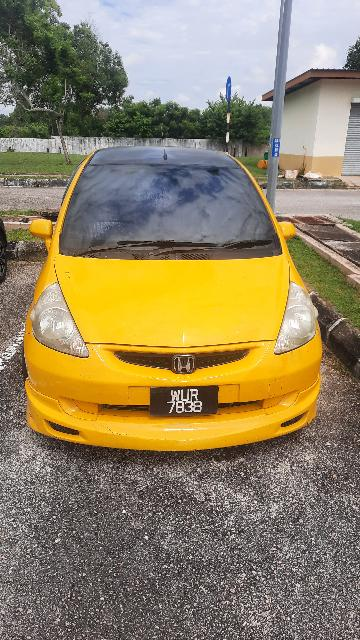License_Plate: (146, 385, 224, 420)
car: (19, 146, 326, 459)
